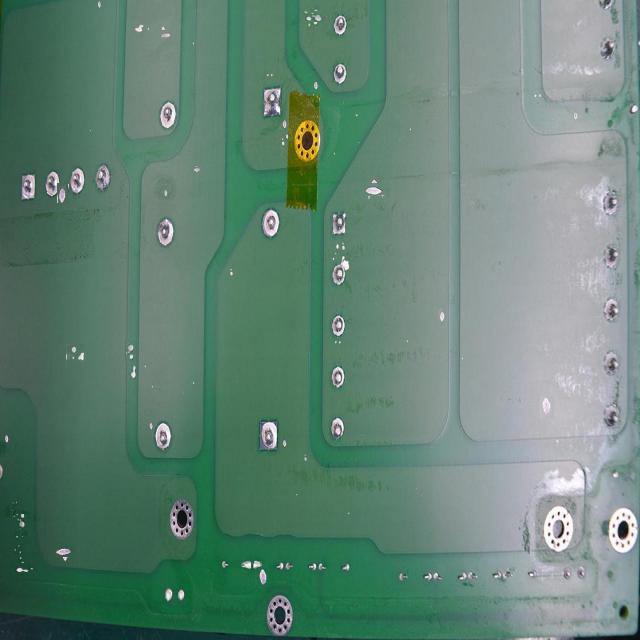spillover: (364, 179, 386, 199), (66, 344, 84, 368), (304, 8, 323, 25), (540, 396, 554, 419), (12, 560, 29, 577), (15, 514, 28, 536), (57, 183, 69, 203), (126, 342, 138, 362), (56, 544, 72, 559), (258, 568, 268, 590), (436, 305, 446, 323), (132, 23, 145, 36), (156, 28, 168, 40), (161, 184, 169, 200), (191, 164, 201, 173)
